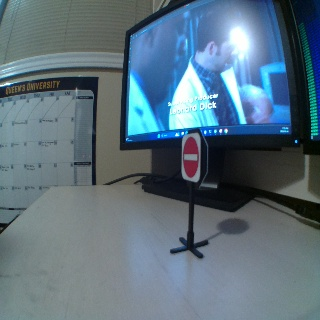sign_noentry: (182, 135, 200, 181)
